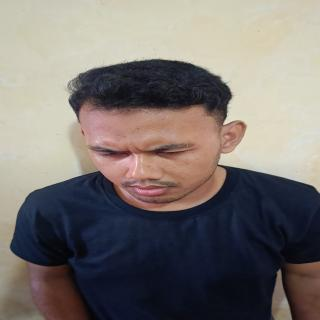Marah: (74, 96, 227, 211)
